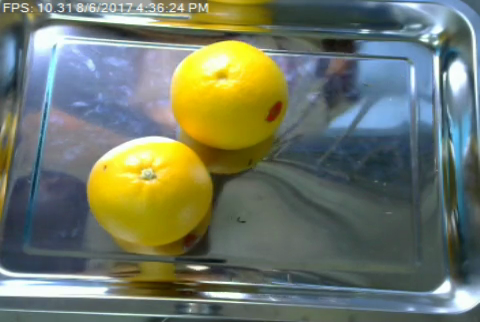Orange: (85, 134, 212, 247), (169, 41, 289, 149)
